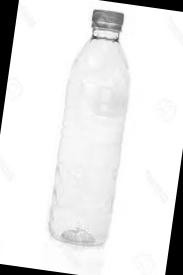plastic: (17, 0, 164, 265)
